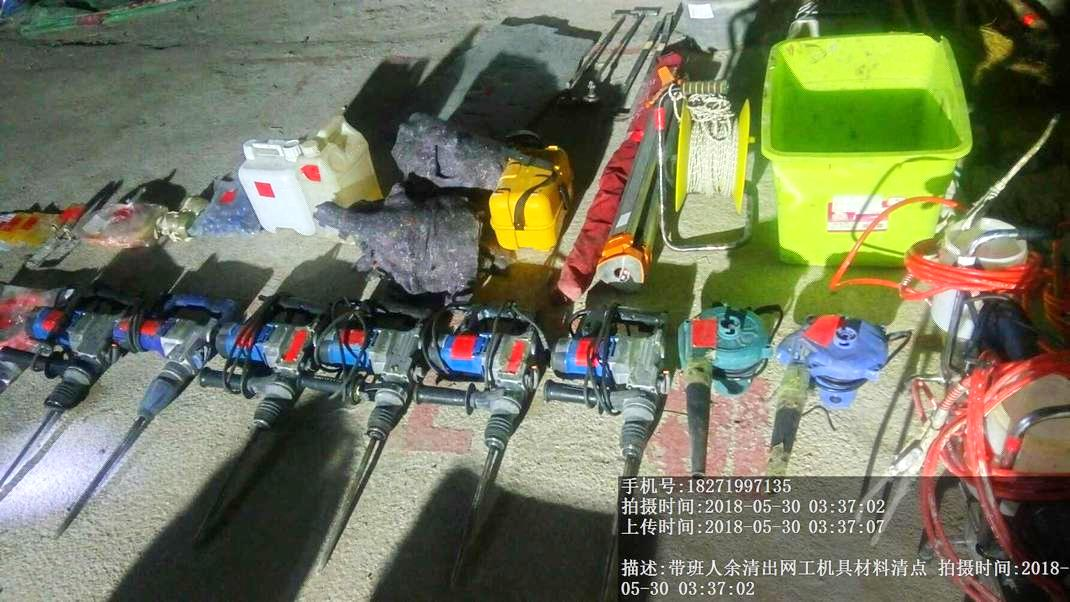DZ: (422, 300, 541, 552), (309, 305, 416, 542), (542, 300, 670, 476), (203, 307, 303, 504), (112, 303, 203, 461)
GFJ: (780, 309, 886, 480), (677, 302, 766, 474)
T: (762, 41, 953, 270)
